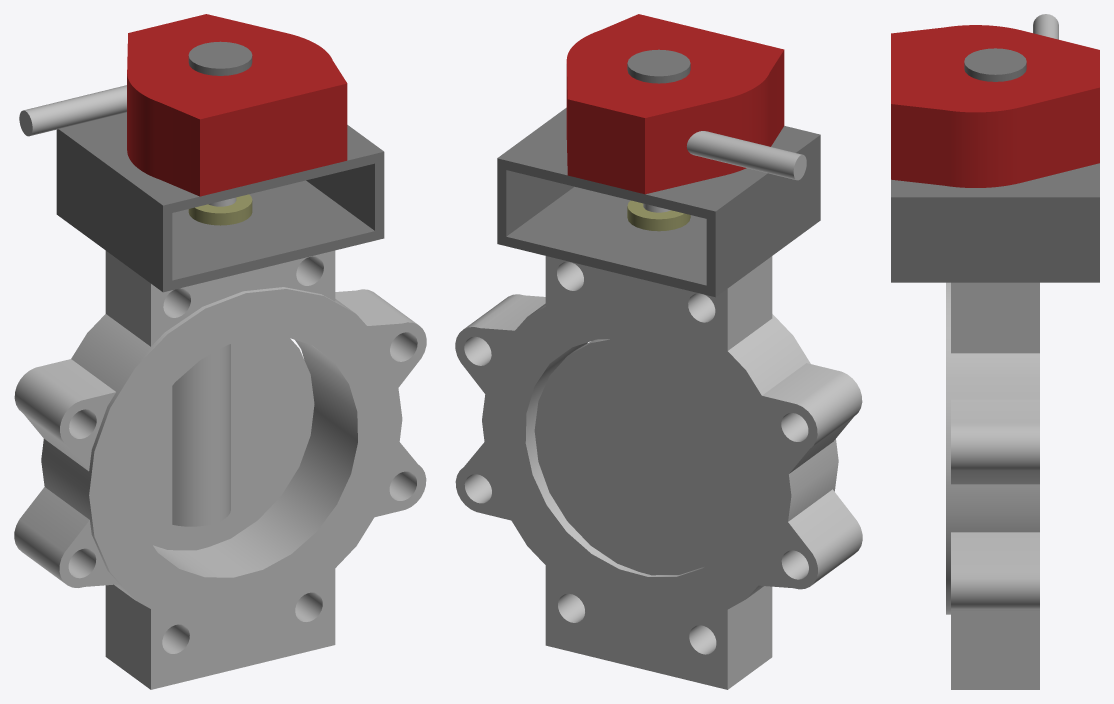
File: BFLY-body-2.dae
The picture shows the model from 3 angles, left to right: view 1: azimuth 30°, elevation 25°; view 2: azimuth 150°, elevation 25°; view 3: azimuth 270°, elevation 25°; orthographic projection.
Parts seen in each view (by area): view 1: group_0 (×10), group_1 (×2), group_2, group_4, SketchUp (×2), group_3; view 2: group_0 (×10), group_4, group_1 (×2), group_2, group_3, SketchUp (×2); view 3: group_0, group_2, group_1, SketchUp, group_3.
Boxes of the visible parts, x1,y1,x2,y2 form: group_0 (×10): (14,250,426,689); group_1 (×2): (56,112,384,292); group_2: (127,14,347,196); group_4: (133,336,314,550); SketchUp (×2): (188,41,252,225); group_3: (19,85,126,136); group_0 (×10): (455,256,862,689); group_4: (534,339,747,575); group_1 (×2): (497,107,820,297); group_2: (566,14,784,194); group_3: (686,131,806,180); SketchUp (×2): (627,49,690,231); group_0: (946,282,1039,689); group_2: (891,25,1099,187); group_1: (891,163,1099,282); SketchUp: (964,48,1026,81); group_3: (1033,14,1058,39).
Size of the model in its own units: 9.96 by 5 by 15.44.
